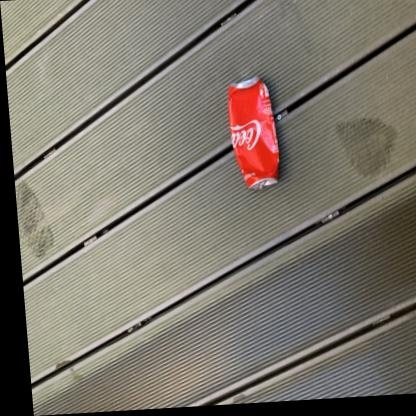trash: (228, 77, 278, 189)
